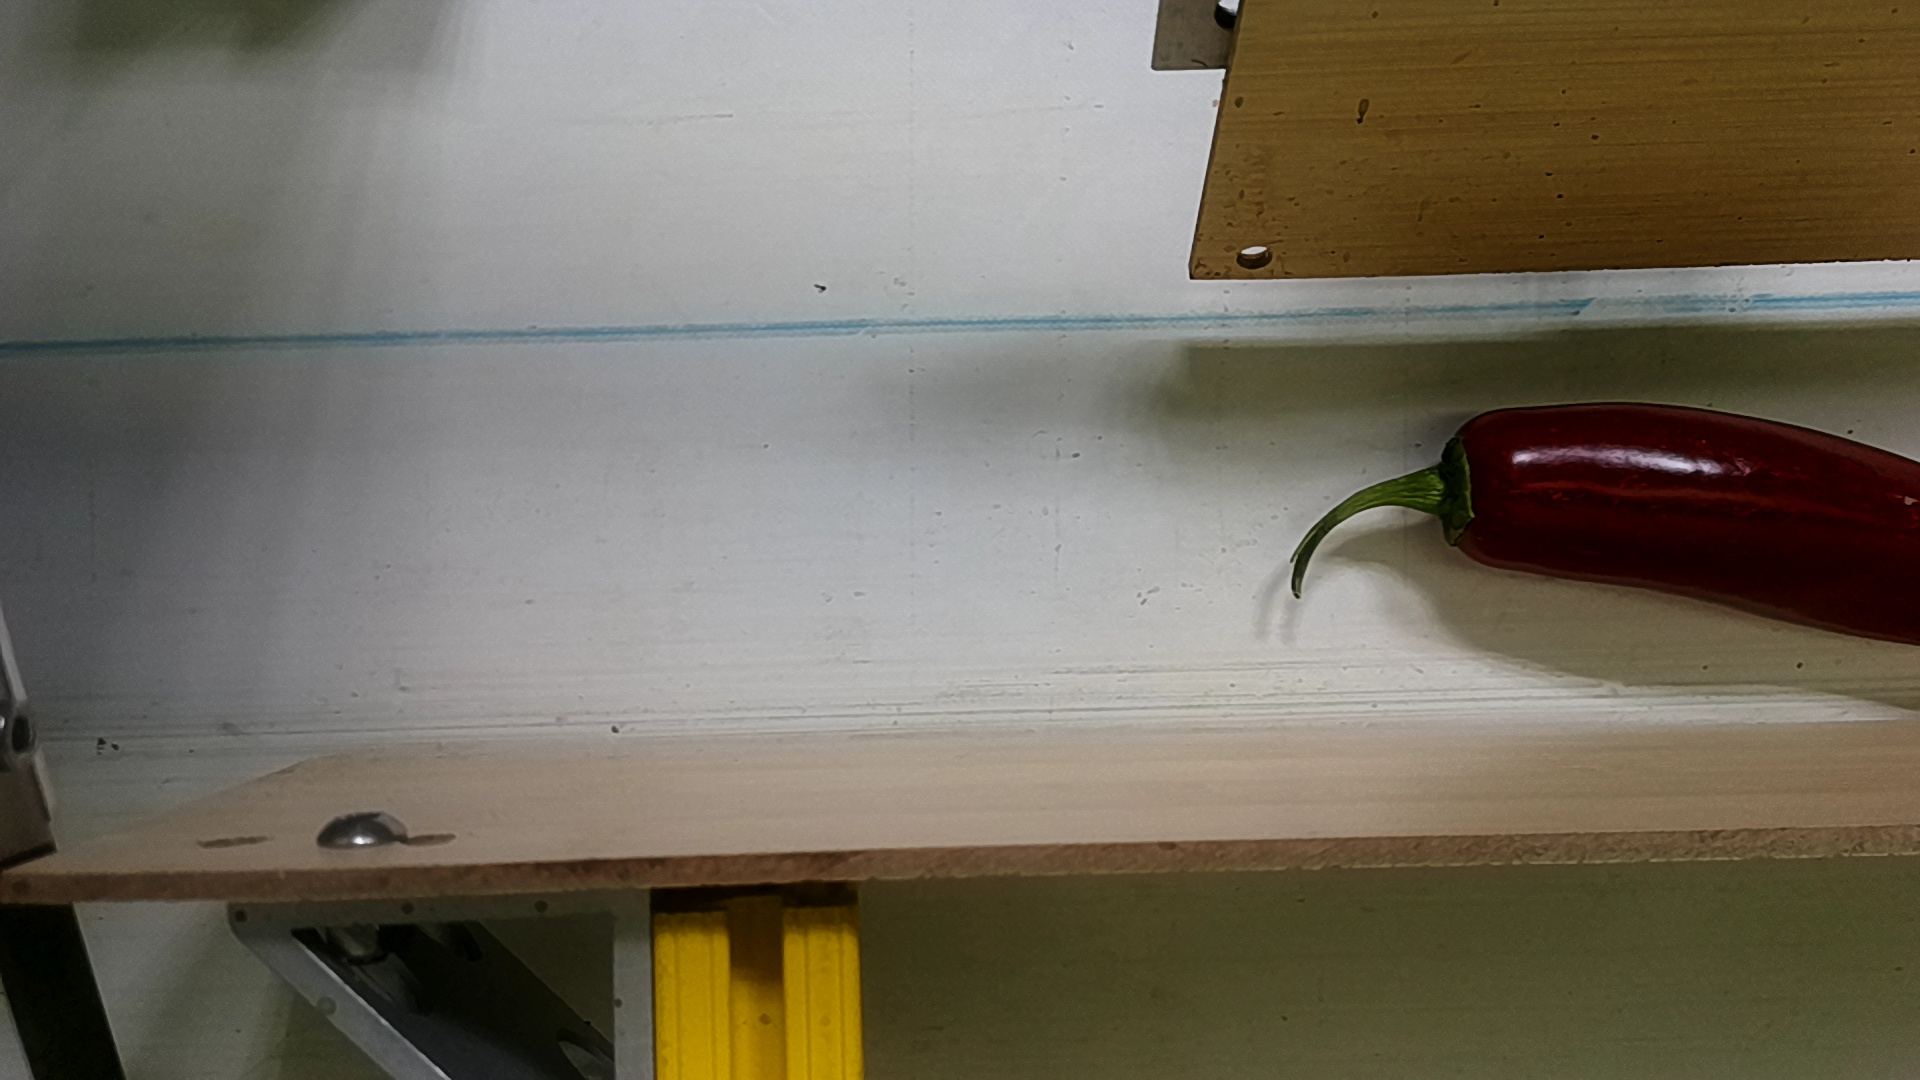Cut Point: (1425, 405, 1511, 580)
